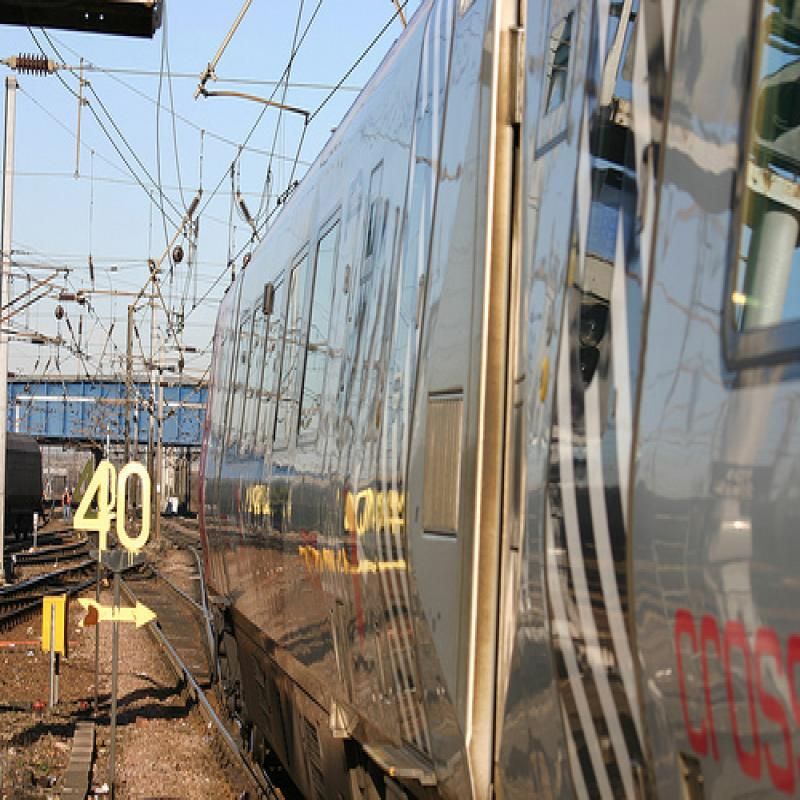train: (198, 1, 799, 799)
